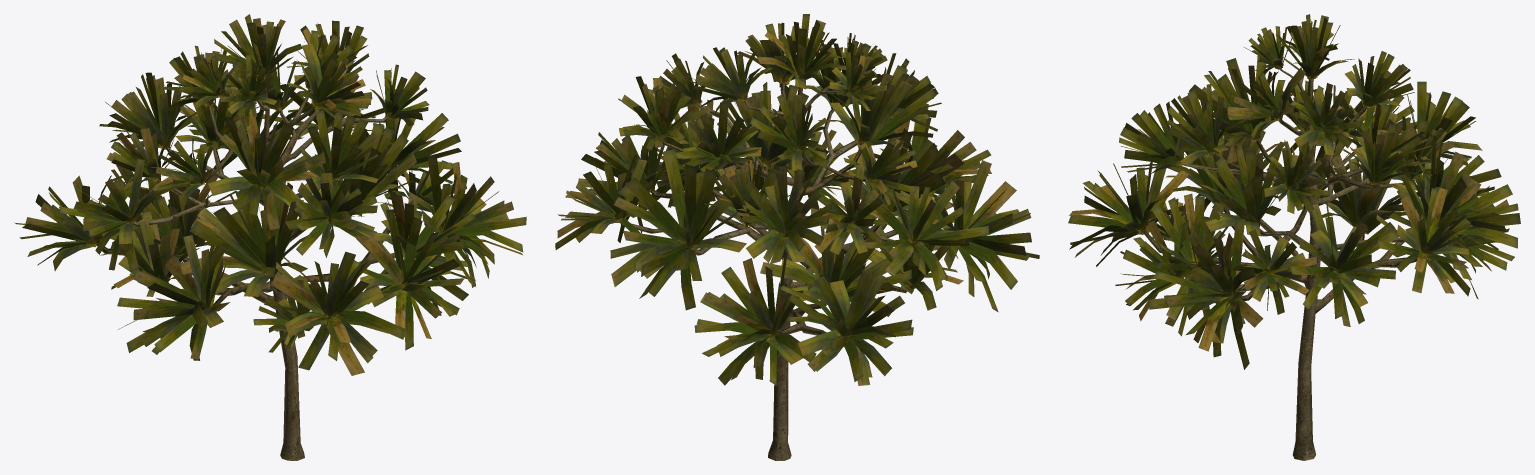
The model's file is sm10_034_tropicalplant09a.fbx.
3 renders of one model, left to right at view 1: azimuth 30°, elevation 25°; view 2: azimuth 150°, elevation 25°; view 3: azimuth 270°, elevation 25°, orthographic. The views are drawn at different scales.
Parts seen in each view (by area): view 1: LOD_1_Group_1_Sub_1__sm10_034_TropicalPlant09A_A_Mat__Env_Al, LOD_1_Group_1_Sub_2__sm10_034_TropicalPlant09A_B_Mat; view 2: LOD_1_Group_1_Sub_1__sm10_034_TropicalPlant09A_A_Mat__Env_Al, LOD_1_Group_1_Sub_2__sm10_034_TropicalPlant09A_B_Mat; view 3: LOD_1_Group_1_Sub_1__sm10_034_TropicalPlant09A_A_Mat__Env_Al, LOD_1_Group_1_Sub_2__sm10_034_TropicalPlant09A_B_Mat.
Part boxes in pixels (x1,y1,x2,y2): LOD_1_Group_1_Sub_1__sm10_034_TropicalPlant09A_A_Mat__Env_Al: (14, 14, 526, 375); LOD_1_Group_1_Sub_2__sm10_034_TropicalPlant09A_B_Mat: (96, 78, 396, 460); LOD_1_Group_1_Sub_1__sm10_034_TropicalPlant09A_A_Mat__Env_Al: (555, 14, 1039, 385); LOD_1_Group_1_Sub_2__sm10_034_TropicalPlant09A_B_Mat: (620, 78, 938, 460); LOD_1_Group_1_Sub_1__sm10_034_TropicalPlant09A_A_Mat__Env_Al: (1068, 14, 1520, 369); LOD_1_Group_1_Sub_2__sm10_034_TropicalPlant09A_B_Mat: (1143, 68, 1417, 460).
Size of the model in its own units: 6.42 by 6.9 by 6.69.
